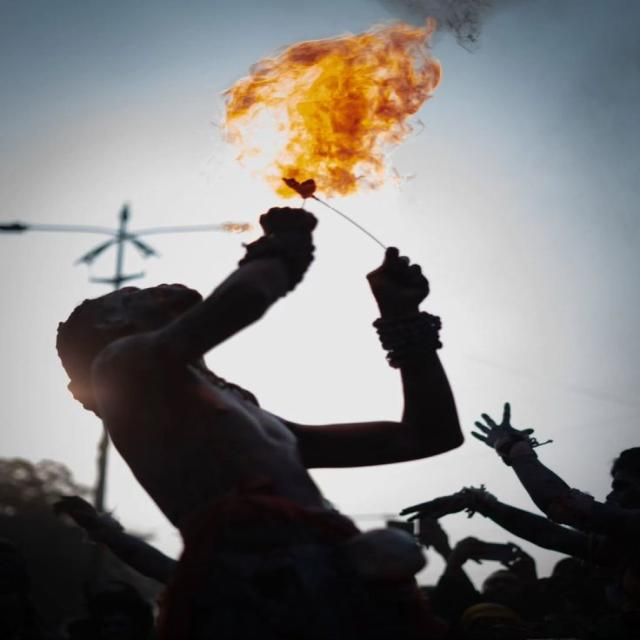fire: (219, 15, 440, 199)
